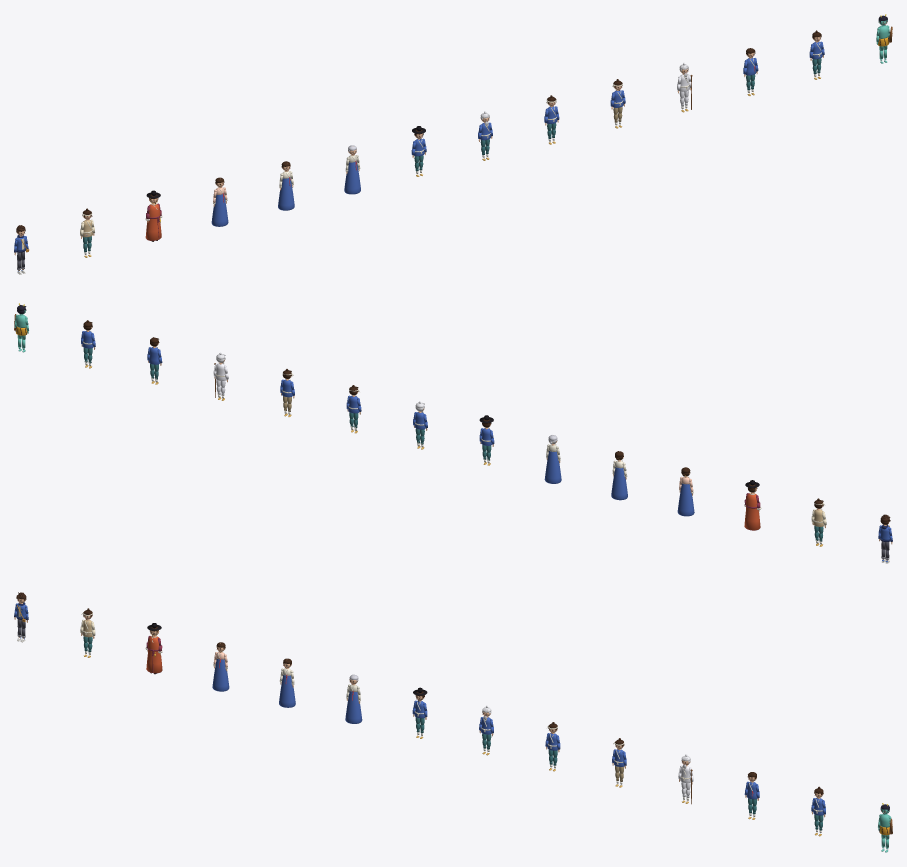
Rendered from characters.glb.
The picture shows the model from 3 angles, top to bottom: view 1: azimuth 30°, elevation 25°; view 2: azimuth 150°, elevation 25°; view 3: azimuth 330°, elevation 25°; orthographic projection.
Visible parts, largest first — view 1: nolbu_Body, wife_Body, suni_Body, ong_Body; view 2: nolbu_Body, wife_Body, ong_Body, suni_Body; view 3: nolbu_Body, wife_Body, suni_Body, ong_Body.
Part boxes in pixels (bbox=[...]): nolbu_Body: bbox=[145, 190, 161, 240]; wife_Body: bbox=[211, 177, 228, 226]; suni_Body: bbox=[278, 161, 294, 210]; ong_Body: bbox=[344, 145, 360, 194]; nolbu_Body: bbox=[744, 480, 760, 530]; wife_Body: bbox=[677, 467, 694, 516]; ong_Body: bbox=[544, 435, 561, 483]; suni_Body: bbox=[611, 451, 627, 500]; nolbu_Body: bbox=[146, 623, 162, 673]; wife_Body: bbox=[212, 642, 229, 691]; suni_Body: bbox=[279, 658, 295, 707]; ong_Body: bbox=[345, 674, 362, 723].
Bounding box in the file's own units: 39.71 × 2.12 × 0.612.
